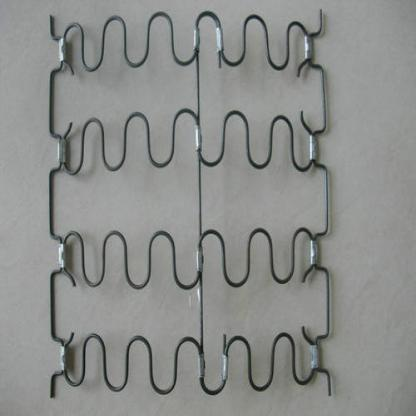FOD: (59, 224, 318, 291)
